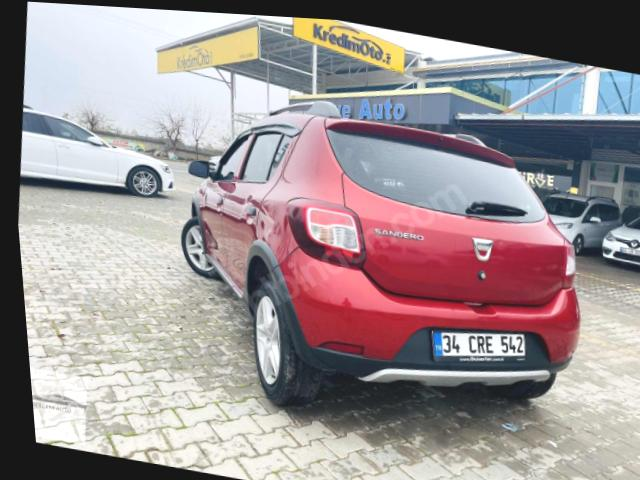plaka: (432, 332, 525, 361), (616, 247, 640, 255)
